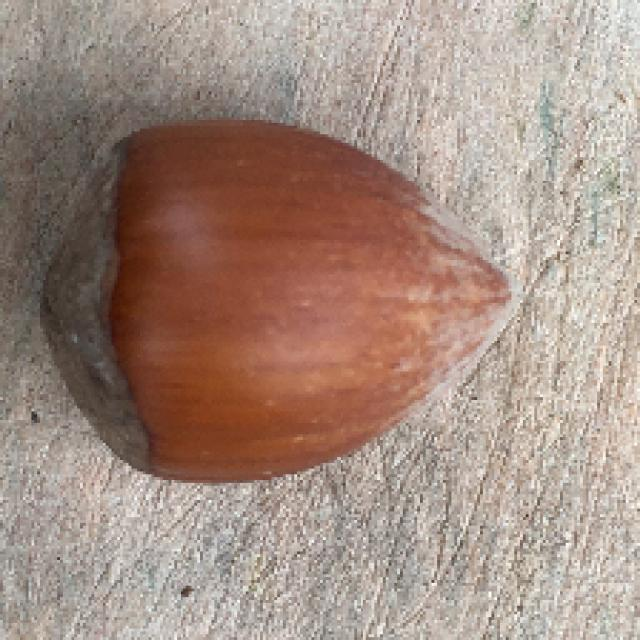QualityHazelnut: (38, 118, 529, 487)
